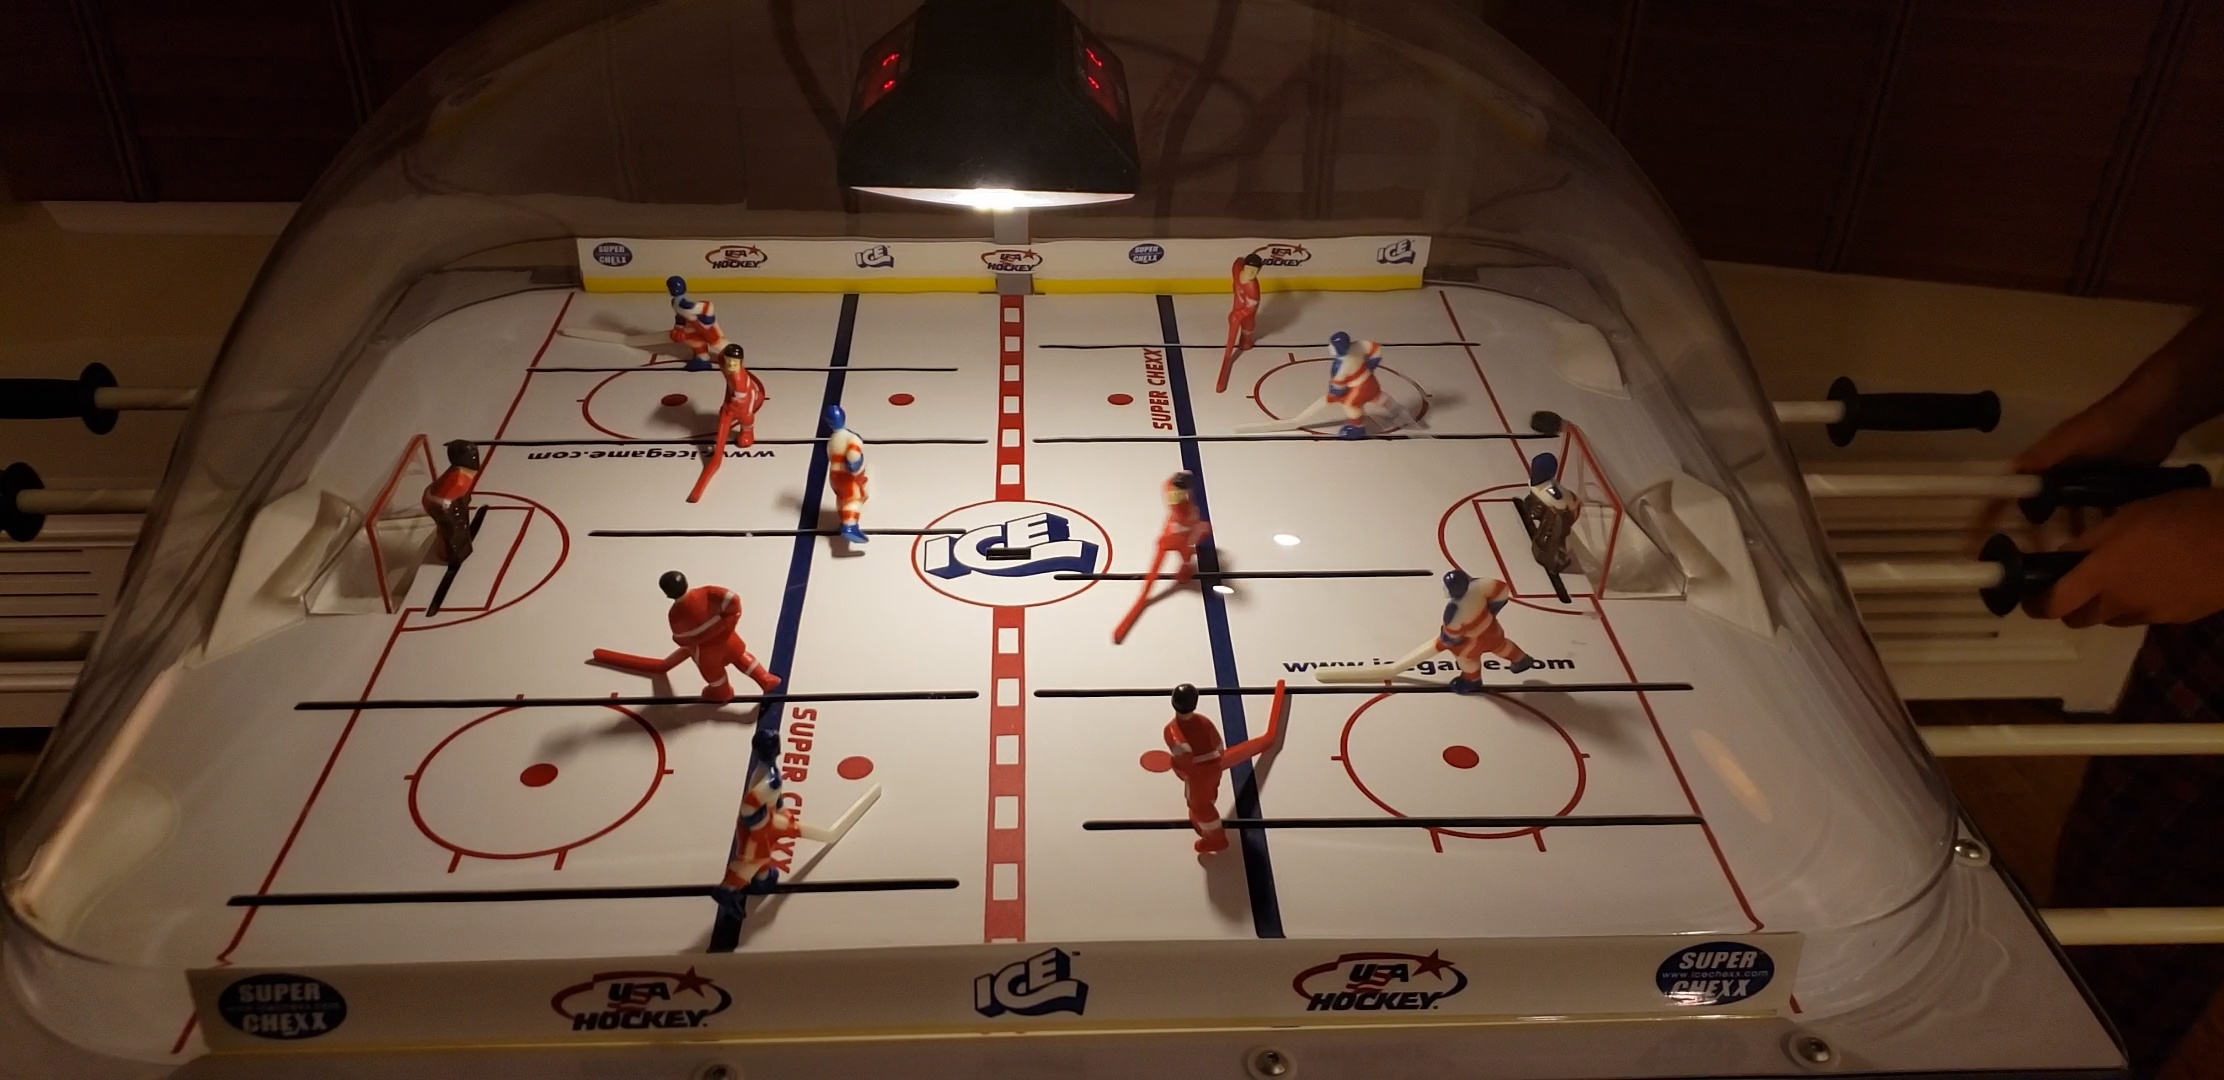puck: (1533, 409, 1567, 434)
